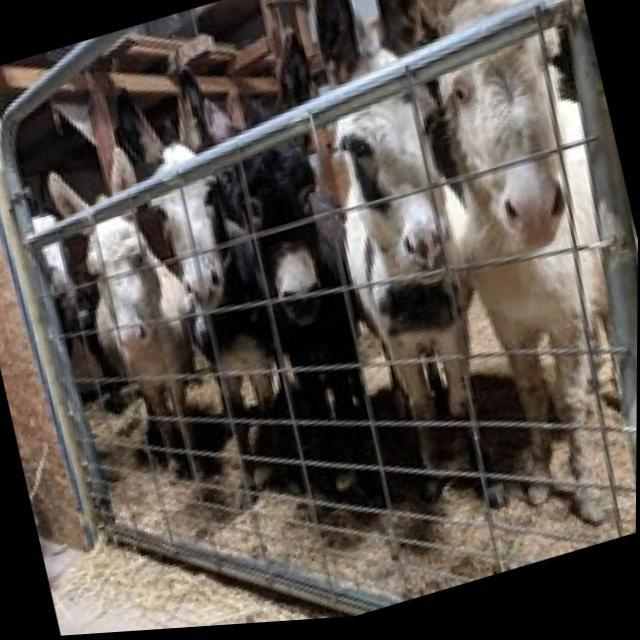Donkey: (275, 0, 537, 540), (390, 0, 640, 558), (38, 130, 231, 508)
